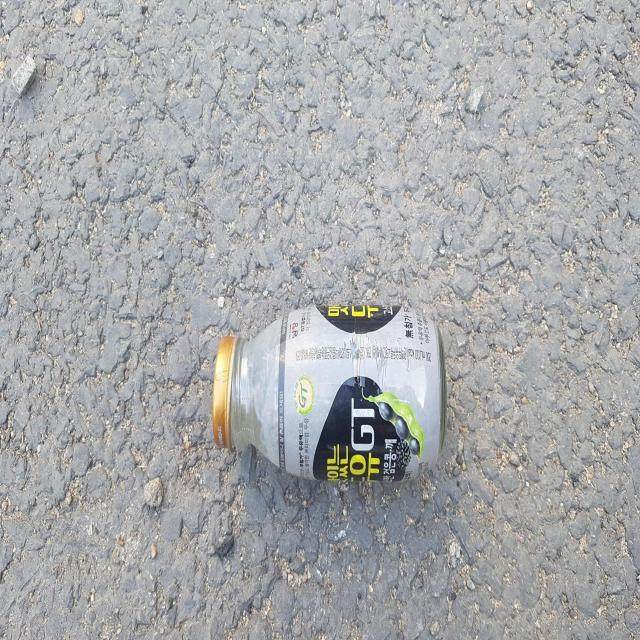glass: (212, 303, 447, 481)
